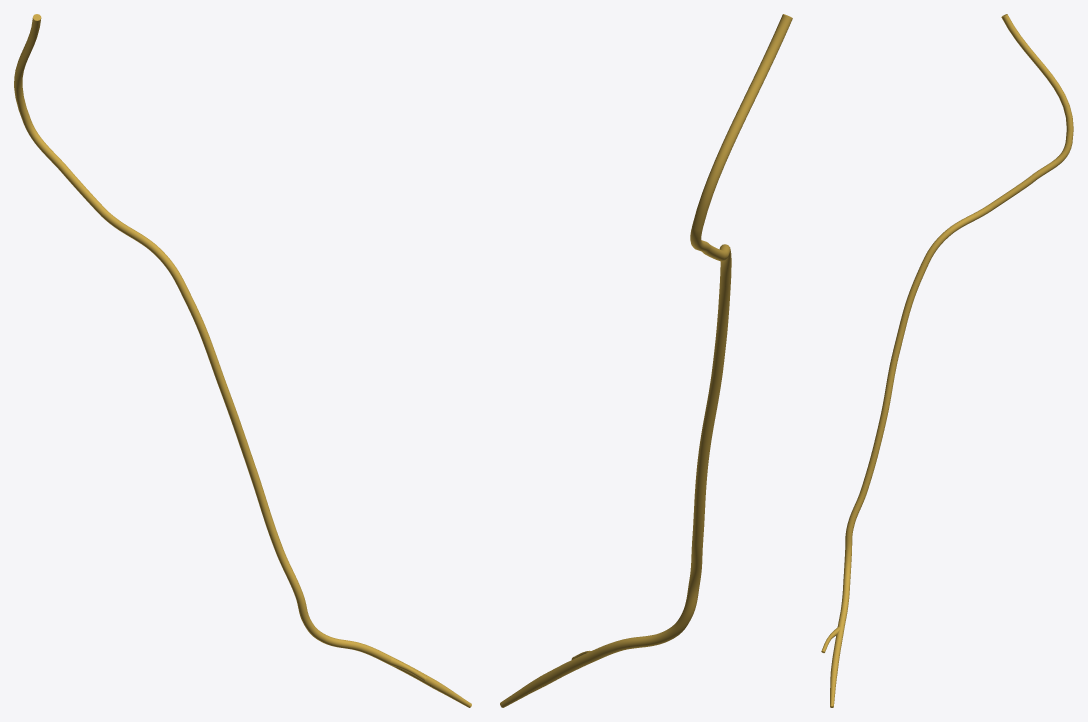
3 renders of one model, left to right at view 1: azimuth 30°, elevation 25°; view 2: azimuth 150°, elevation 25°; view 3: azimuth 270°, elevation 25°, orthographic. The views are drawn at different scales.
Parts seen in each view (by area): view 1: 左侧展神经; view 2: 左侧展神经; view 3: 左侧展神经.
Part boxes in pixels (x1,y1,x2,y2): 左侧展神经: (14,14,471,707); 左侧展神经: (500,14,792,707); 左侧展神经: (821,14,1073,707).
Bounding box in the file's own units: 0.0462 × 0.0923 × 0.0374.
